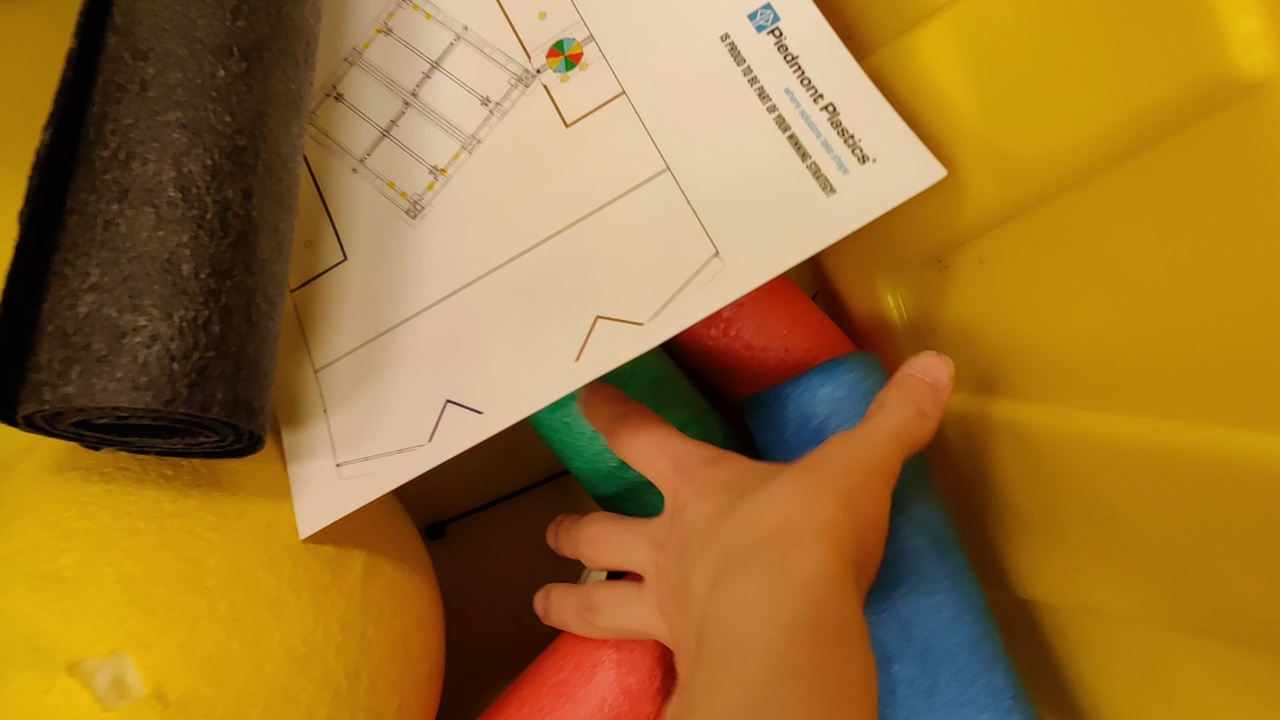Ball: (1, 408, 444, 717)
